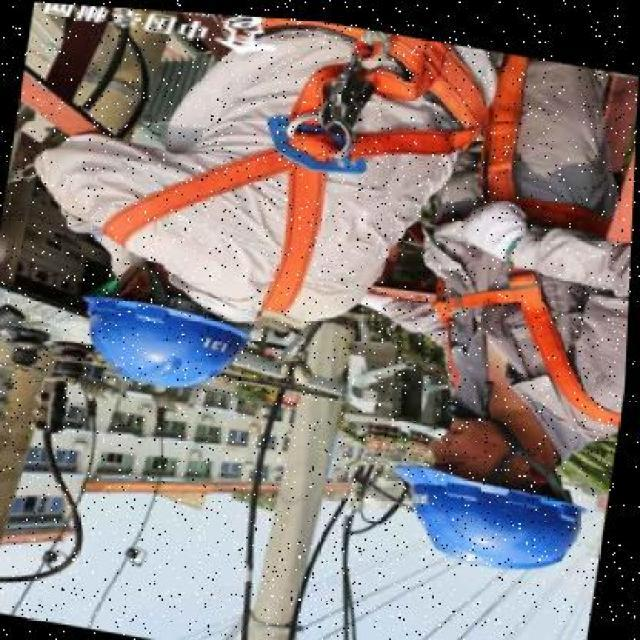helmet: (56, 282, 266, 404), (392, 451, 586, 575)
